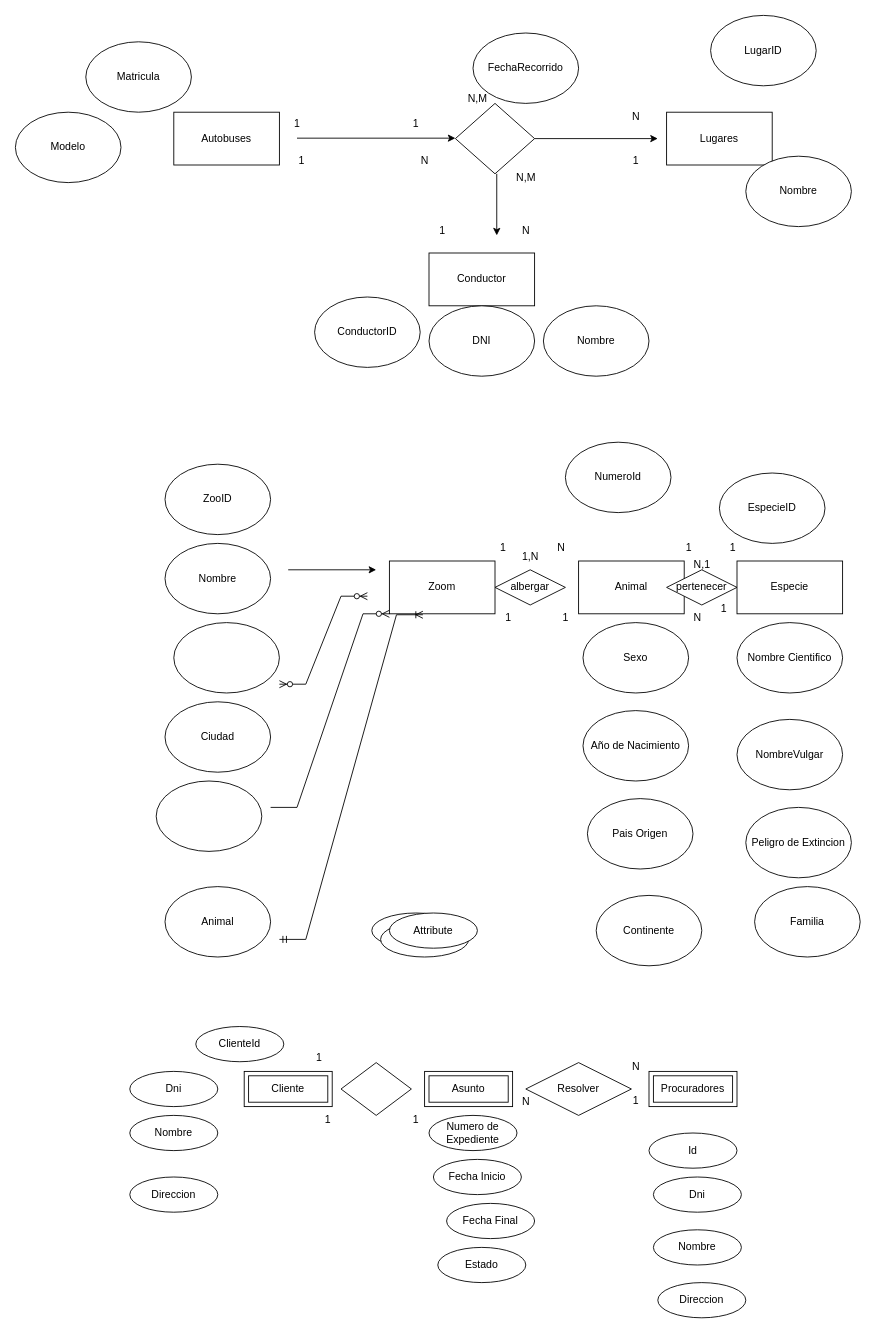
Some shapes in this 876 by 1333 pixel diagram are drawn without their labels. Here are the shapes that lost their labels. From the top down, the centre of each, then its label:
At (x=495, y=138): "Recorrer".
At (x=226, y=657): "Pais".
At (x=208, y=815): "Presupesto Anual".
At (x=375, y=1088): "Solicita".
